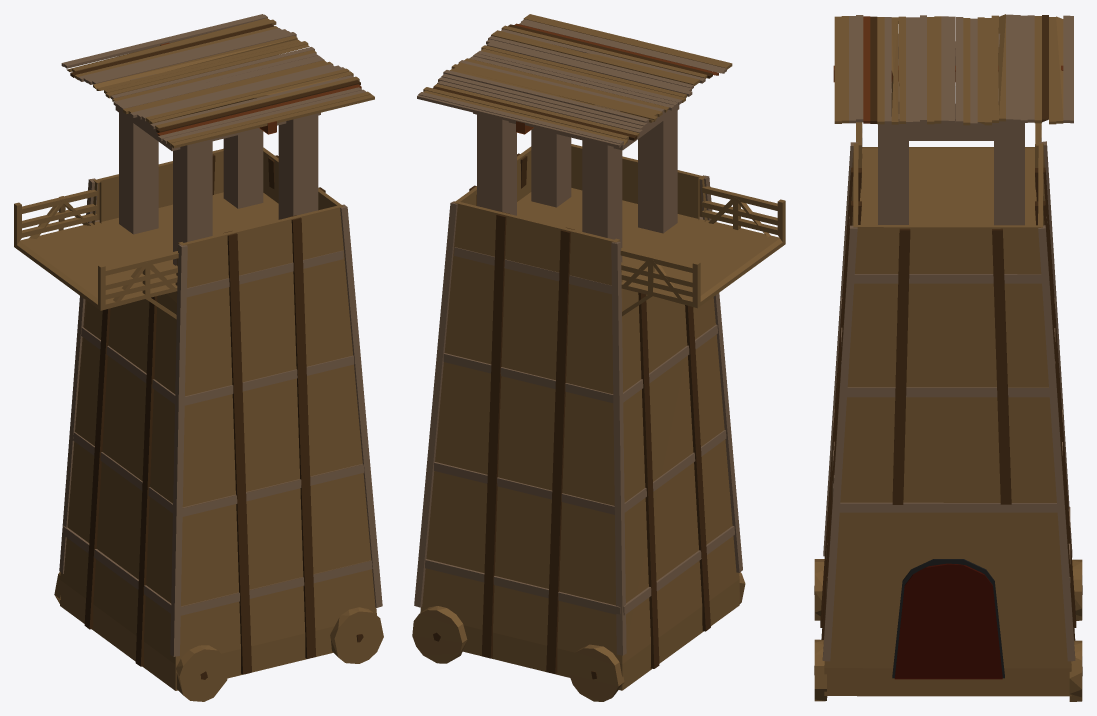
Rendered from siege-tower.zfix-v9.lod1.glb.
3 views of the same model, side by side, from view 1: azimuth 30°, elevation 25°; view 2: azimuth 150°, elevation 25°; view 3: azimuth 270°, elevation 25° (orthographic). The views are drawn at different scales.
Visible parts, largest first — view 1: Object_2; view 2: Object_2; view 3: Object_2.
Part boxes in pixels (bbox=[...]): Object_2: bbox=[14, 14, 383, 701]; Object_2: bbox=[412, 14, 785, 701]; Object_2: bbox=[814, 14, 1082, 701].
Size of the model in its own units: 7.6 by 15 by 6.15.
